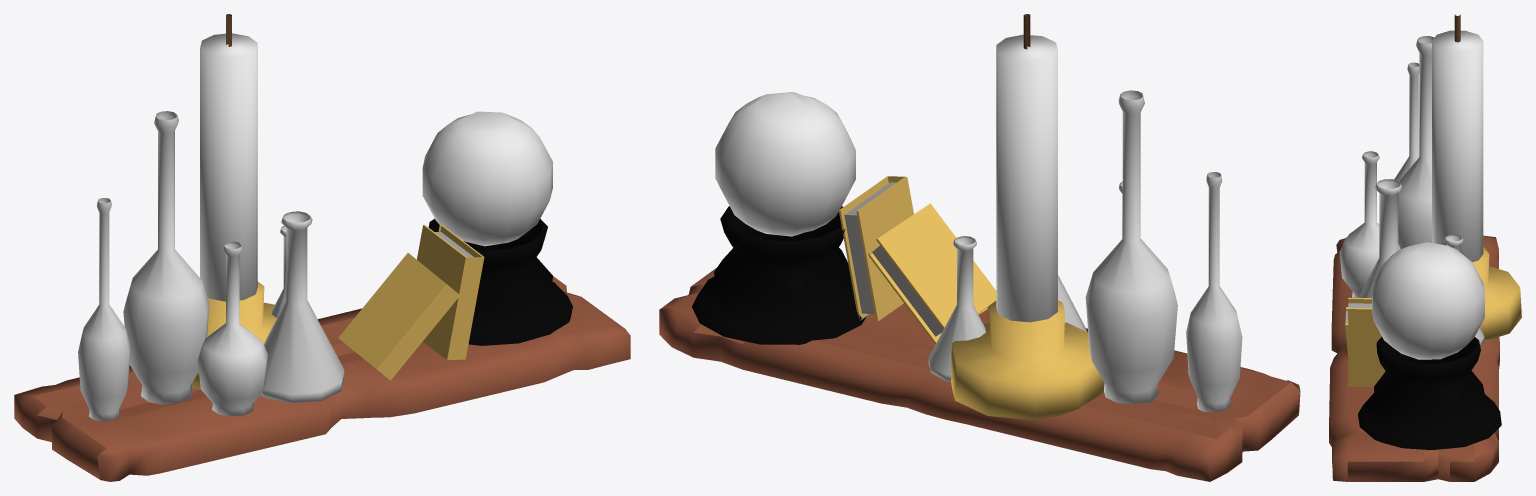
Rendered from Shelf2.fbx.
3 renders of one model, left to right at view 1: azimuth 30°, elevation 25°; view 2: azimuth 150°, elevation 25°; view 3: azimuth 270°, elevation 25°, orthographic. The views are drawn at different scales.
Parts seen in each view (by area): view 1: półka.002, Cone, Ball, Candle, books2; view 2: półka.002, Ball, Candle, Cone, books2; view 3: Ball, Candle, półka.002, Cone, books2.
Boxes of the visible parts, <box> form: półka.002: <box>14,276,630,481</box>; Cone: <box>78,111,344,421</box>; Ball: <box>422,111,572,345</box>; Candle: <box>191,14,276,388</box>; books2: <box>338,224,484,380</box>; półka.002: <box>659,268,1300,481</box>; Ball: <box>692,92,866,344</box>; Candle: <box>951,14,1103,420</box>; Cone: <box>928,90,1242,412</box>; books2: <box>839,176,996,343</box>; Ball: <box>1358,242,1501,449</box>; Candle: <box>1432,14,1521,339</box>; półka.002: <box>1329,235,1499,481</box>; Cone: <box>1339,36,1484,345</box>; books2: <box>1345,297,1385,386</box>.
Size of the model in its own units: 177 by 119 by 63.77.
